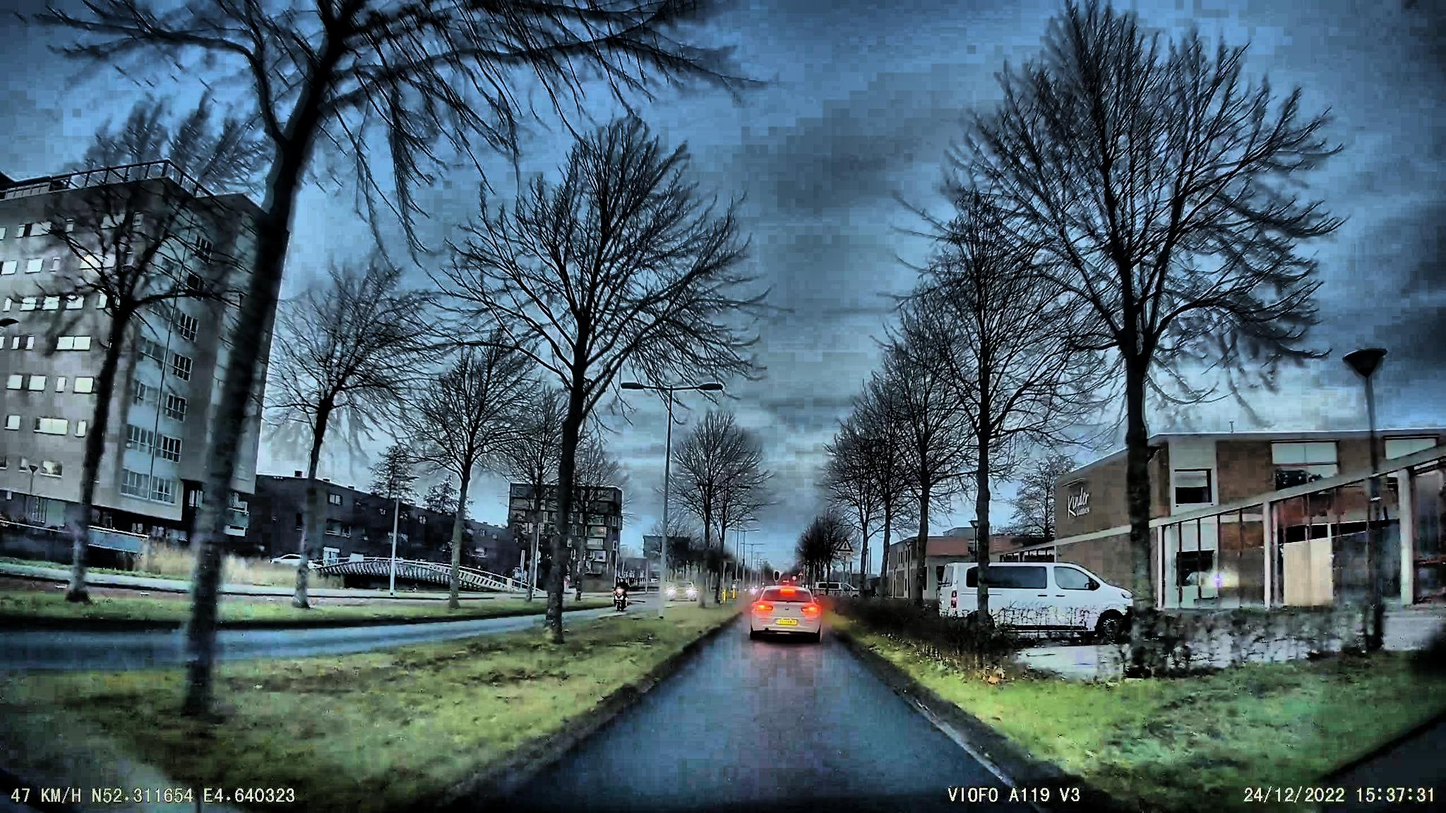Roads: (524, 622, 1063, 813)
